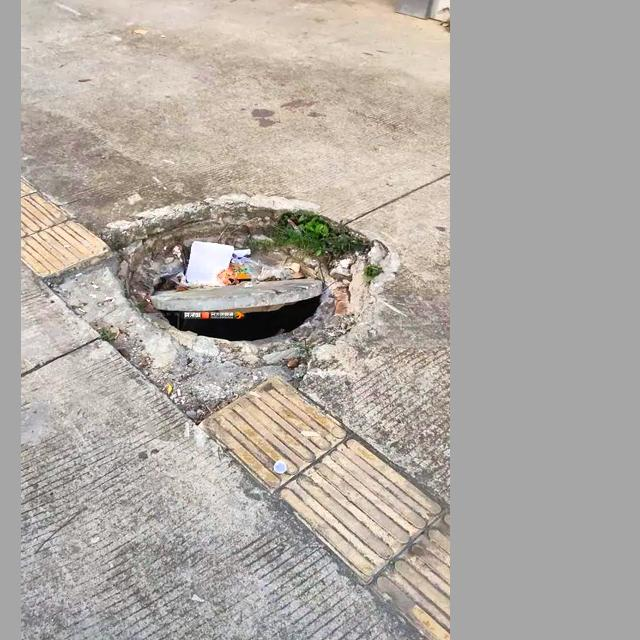circle: (61, 188, 413, 409)
